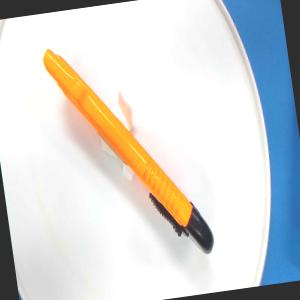estilete: (41, 30, 217, 274)
